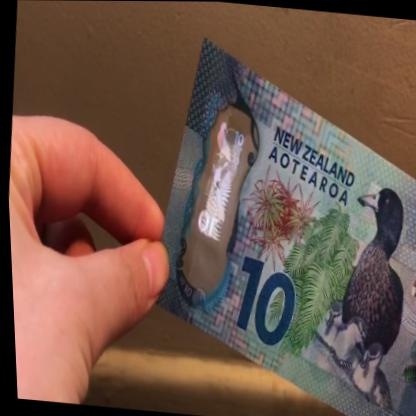10F: (188, 115, 254, 249)
